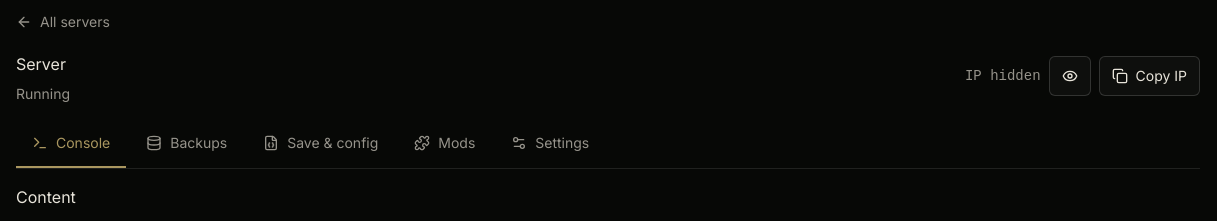
Scenario: reports clipboard failure on the Copy IP button and permits retry without helper text
This screenshot has width=1217, height=221.
What coordinates should you click on to do the following:
click the button "Copy IP"
I would click on:
 (1149, 76)
Its box is 1099,56 -> 1200,96.
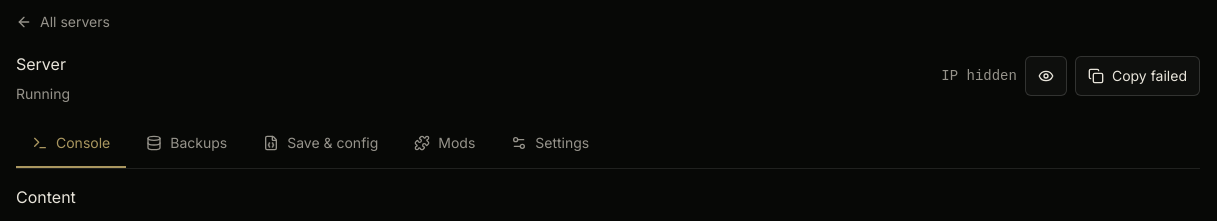
What coordinates should you click on to do the following:
click the button "Copy failed"
I would click on:
 (1137, 76)
Its box is 1075,56 -> 1200,96.
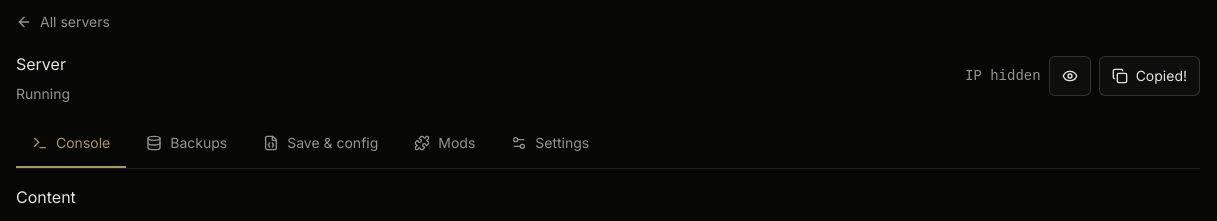
Now the button "Copied!" is shown, box 1099,56 -> 1200,96
